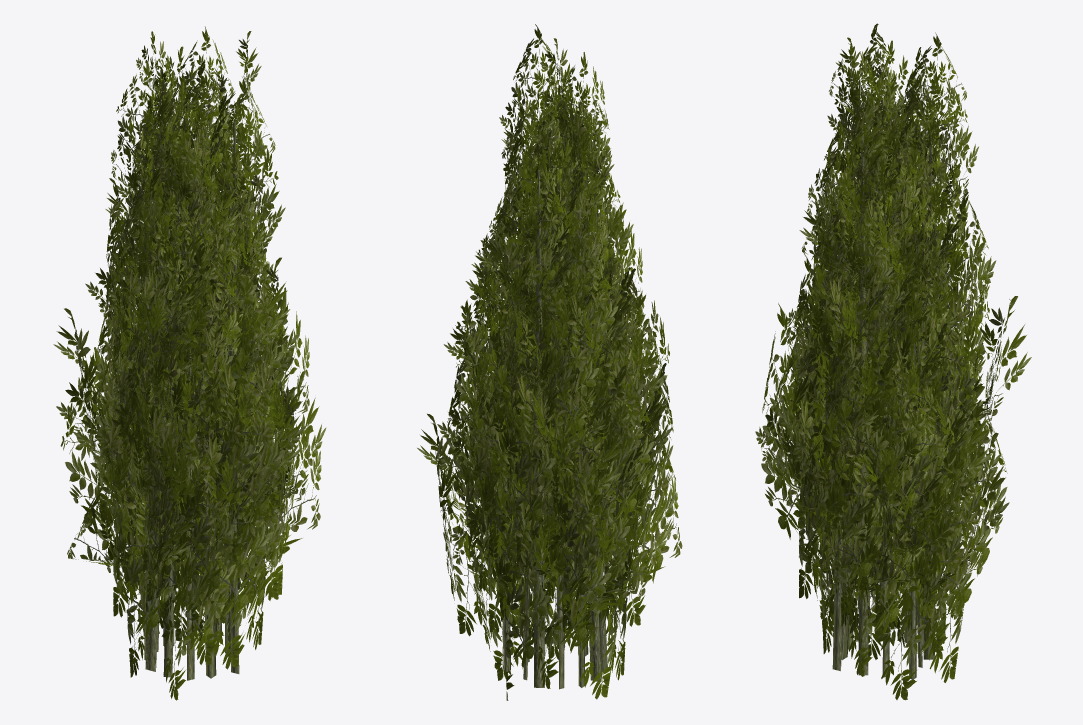
File: Oval-leaved_Privet_Model_0.obj
The picture shows the model from 3 angles, left to right: view 1: azimuth 30°, elevation 25°; view 2: azimuth 150°, elevation 25°; view 3: azimuth 270°, elevation 25°; orthographic projection.
Visible parts, largest first — view 1: Foliage; view 2: Foliage; view 3: Foliage.
Boxes of the visible parts, x1,y1,x2,y2 form: Foliage: (53,26,326,700); Foliage: (417,24,682,700); Foliage: (755,23,1031,700).
Size of the model in its own units: 1.32 by 3 by 1.38.
Materials: 1 (1 with a texture image).
